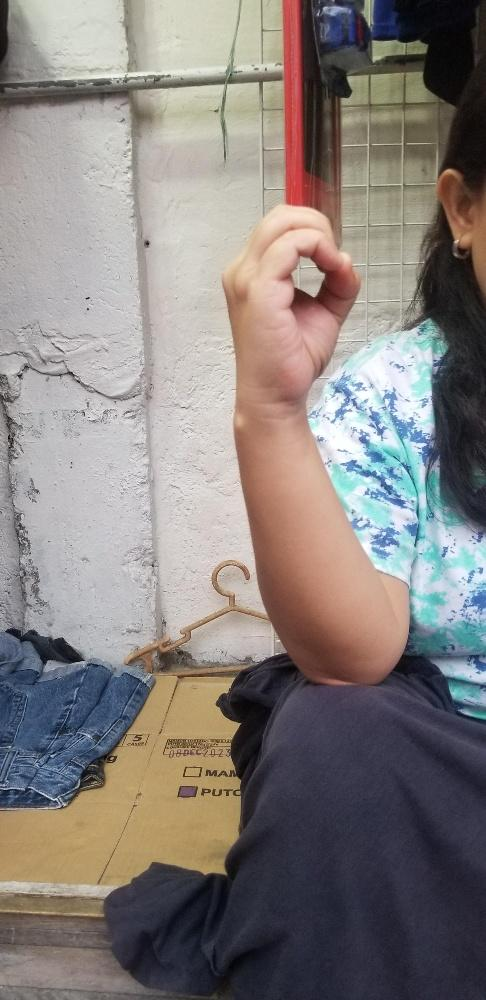o: (220, 205, 361, 409)
